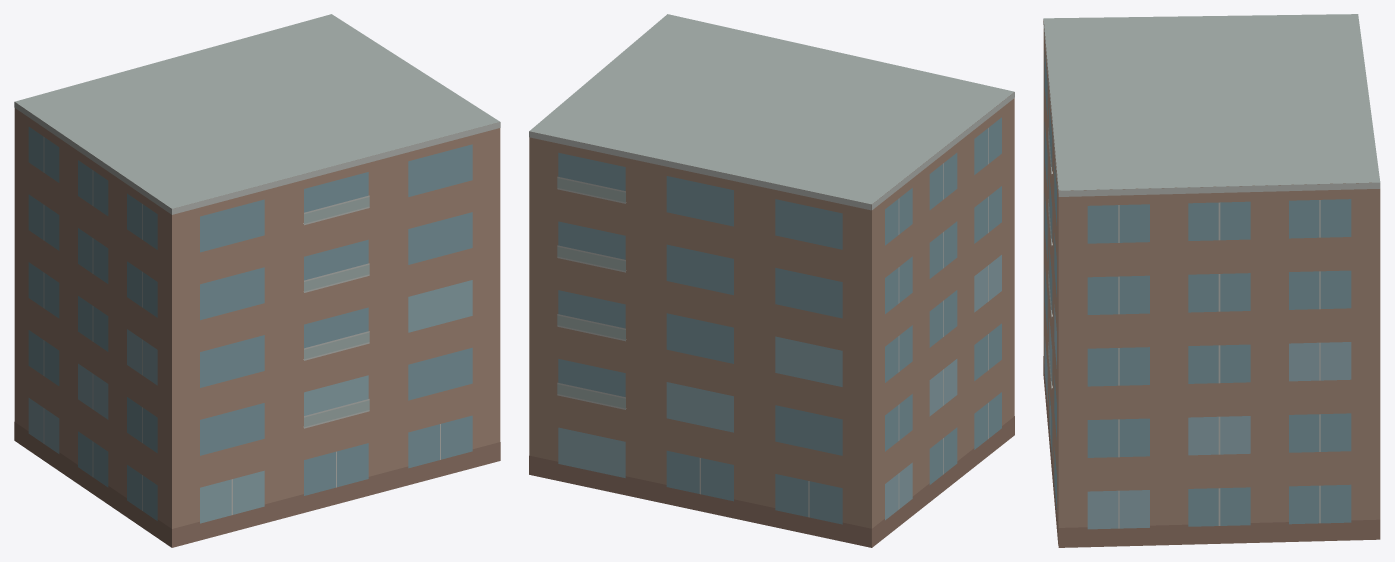
The model's file is survey-upis-32705657.glb.
The picture shows the model from 3 angles, left to right: view 1: azimuth 30°, elevation 25°; view 2: azimuth 150°, elevation 25°; view 3: azimuth 270°, elevation 25°; orthographic projection. The views are drawn at different scales.
Parts seen in each view (by area): view 1: survey-upis-32705657.tmp; view 2: survey-upis-32705657.tmp; view 3: survey-upis-32705657.tmp.
Part boxes in pixels (box(x1,y1,x2,y2)): survey-upis-32705657.tmp: box(14, 14, 500, 547); survey-upis-32705657.tmp: box(529, 14, 1014, 547); survey-upis-32705657.tmp: box(1043, 14, 1380, 547).
Size of the model in its own units: 14.66 by 13.8 by 11.81.
